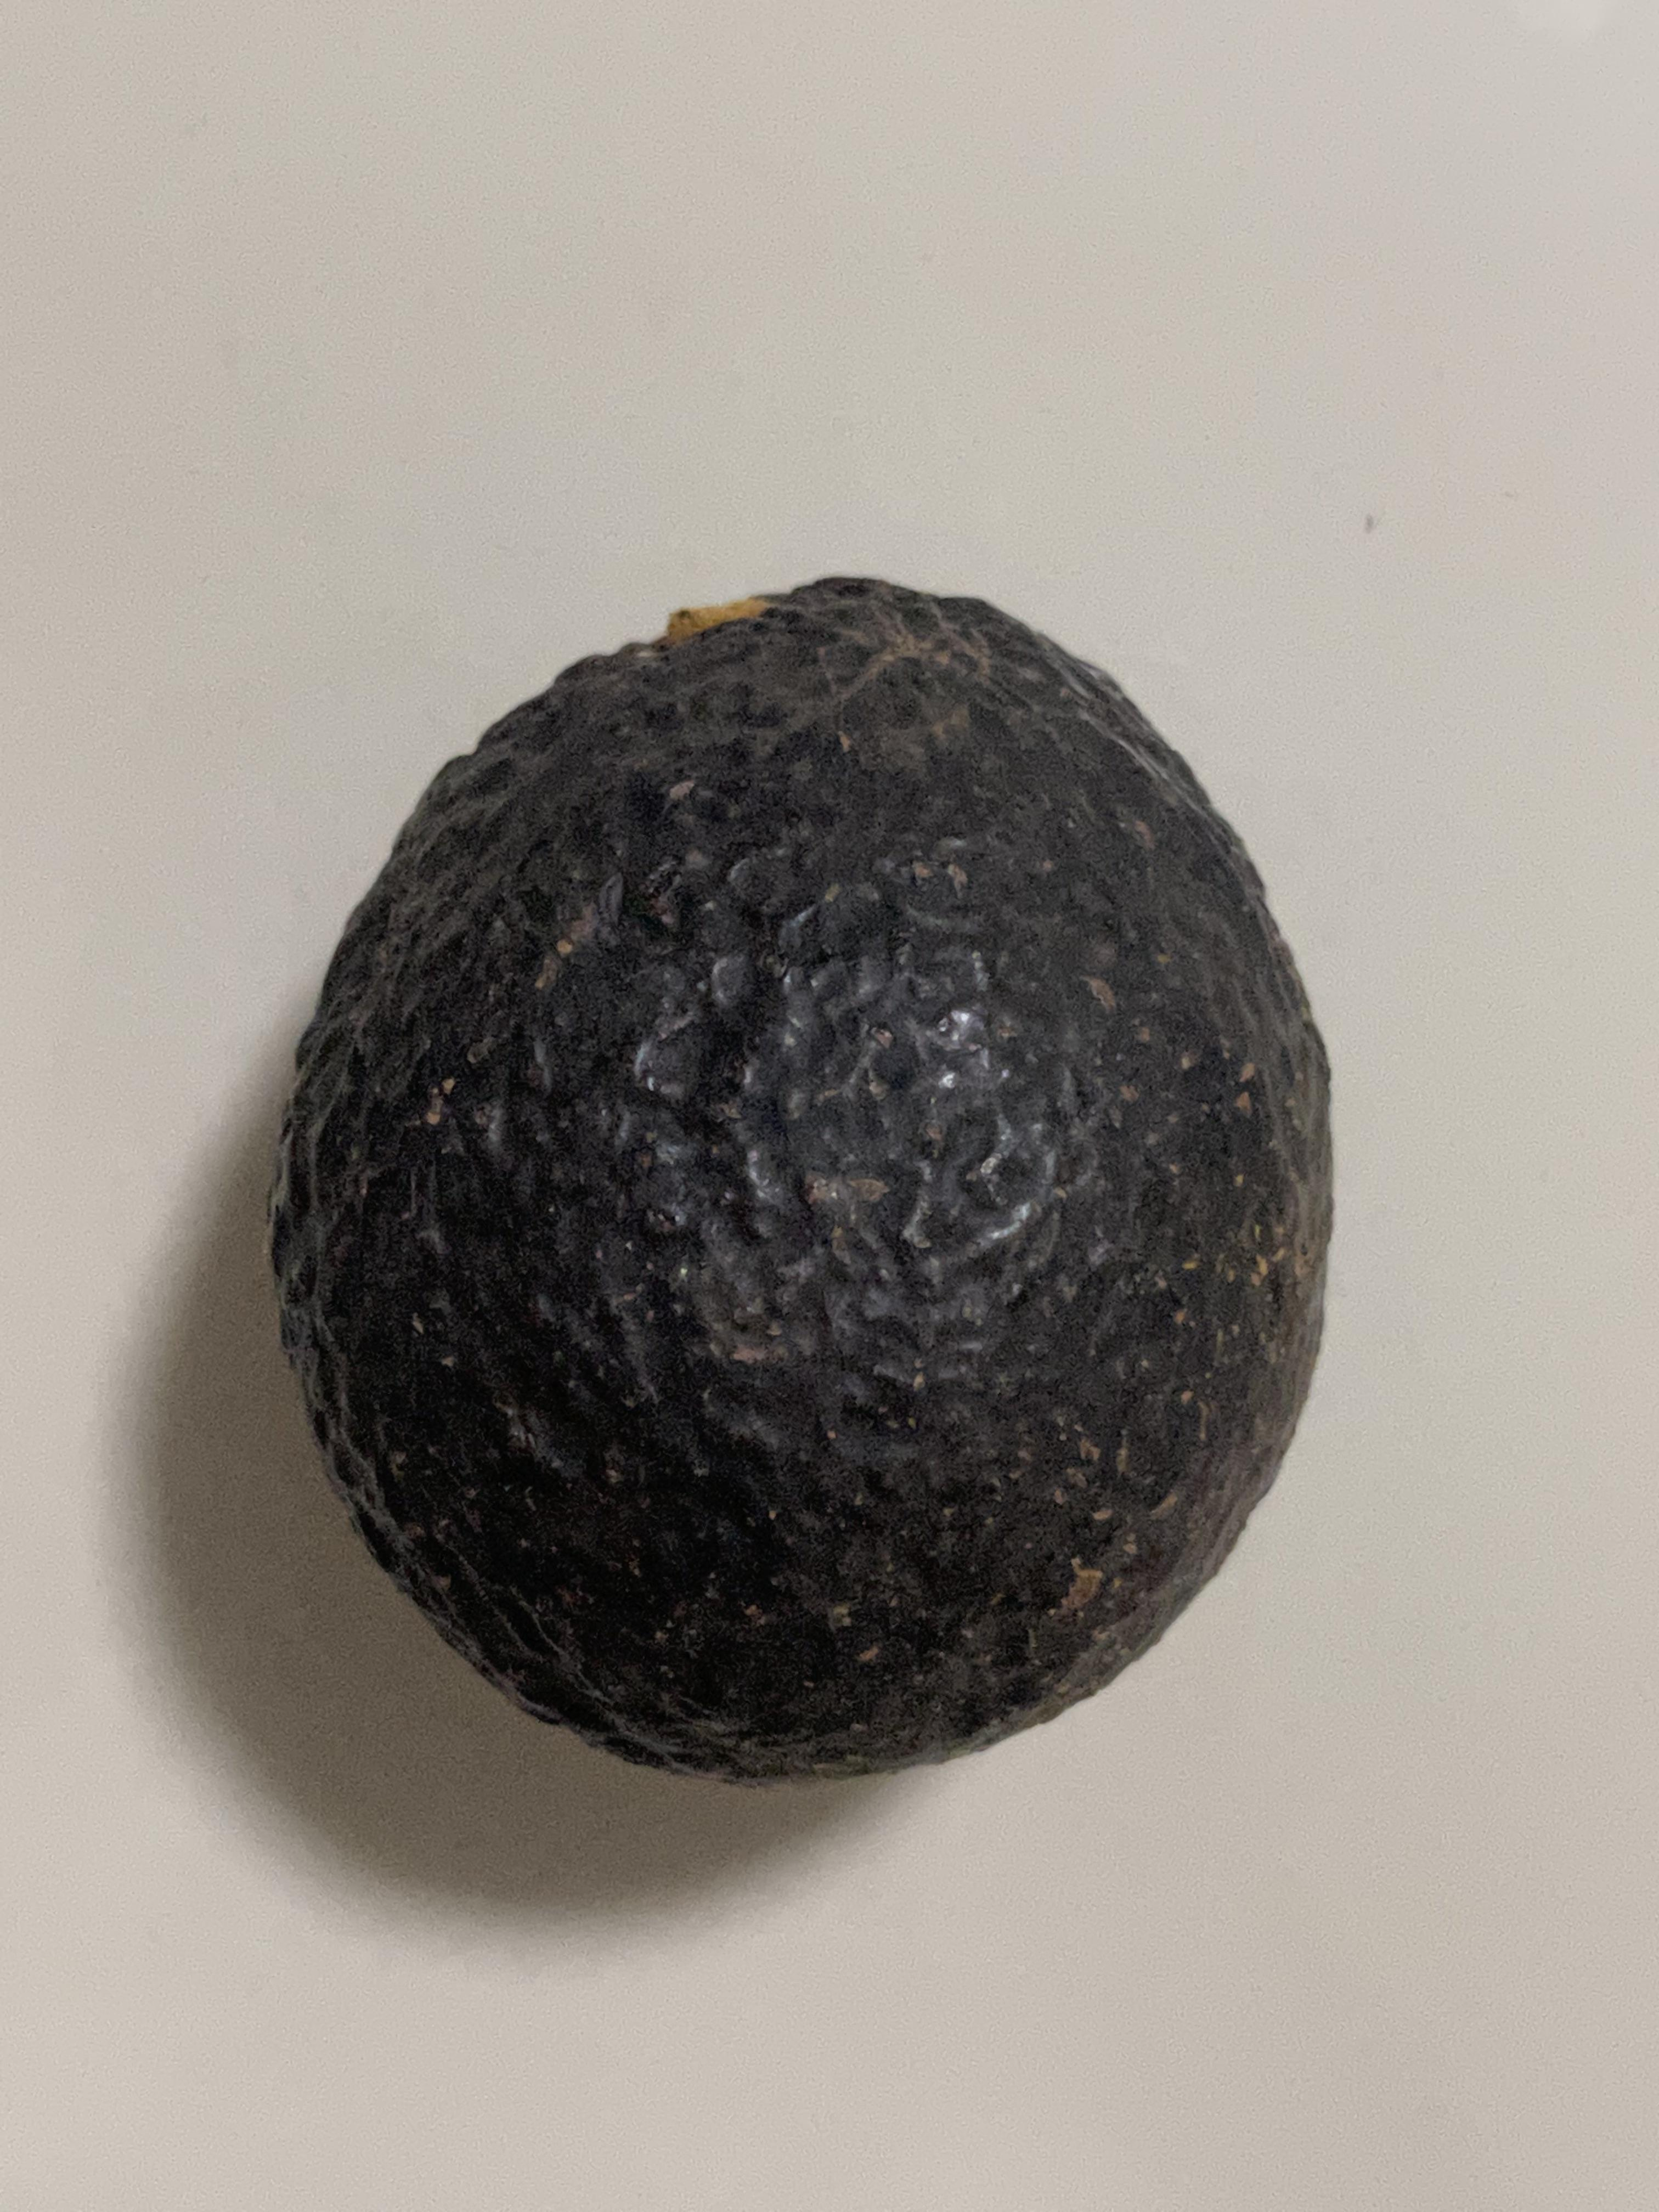Level2: (253, 549, 1354, 1796)
